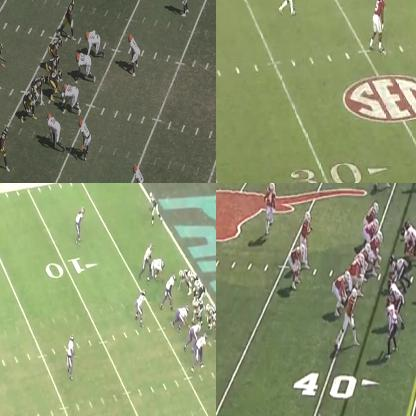CENTER: (368, 239, 382, 276), (50, 71, 62, 96), (192, 300, 202, 324)
DB: (372, 0, 383, 50), (387, 297, 397, 350), (74, 206, 84, 243), (67, 334, 75, 380), (133, 166, 145, 182), (181, 0, 190, 17), (282, 0, 293, 13)
LB: (80, 120, 92, 160), (138, 244, 152, 276), (130, 37, 141, 75), (195, 333, 206, 365), (137, 290, 144, 324)
QB: (301, 213, 311, 270), (0, 42, 5, 90)
SKILL: (264, 184, 278, 233), (334, 270, 348, 319), (346, 278, 358, 335), (290, 241, 300, 285), (68, 0, 79, 31), (0, 128, 8, 169), (150, 192, 160, 223), (178, 267, 186, 281)
